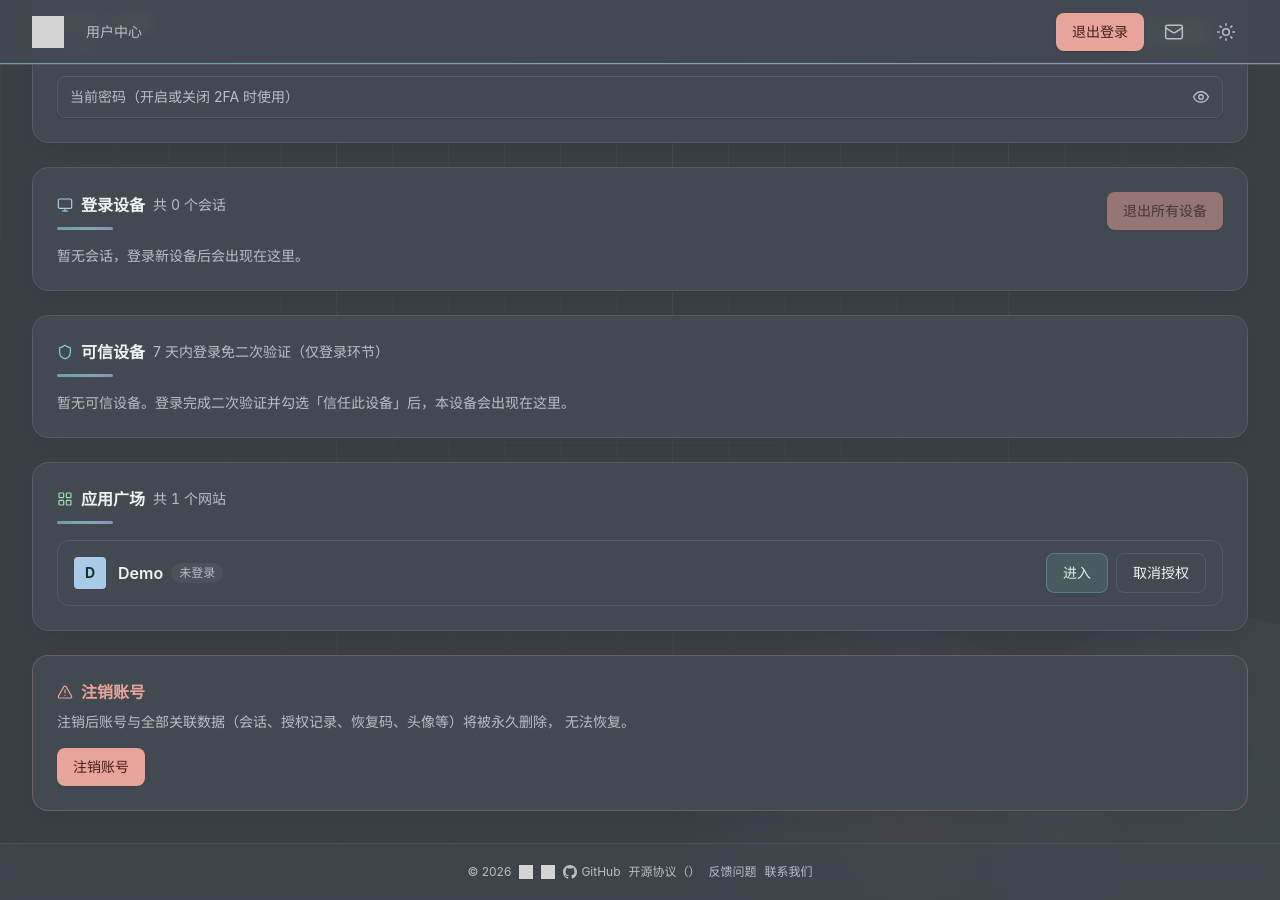
Test: DashboardPage › 配置回程登出但未找到活跃登录关系时给出准确提示
(page scrolled)
Expected: the text "Demo" is shown, [118,561,163,585]
Click the button "取消授权" at (1161,573), box [1116,553,1206,593]
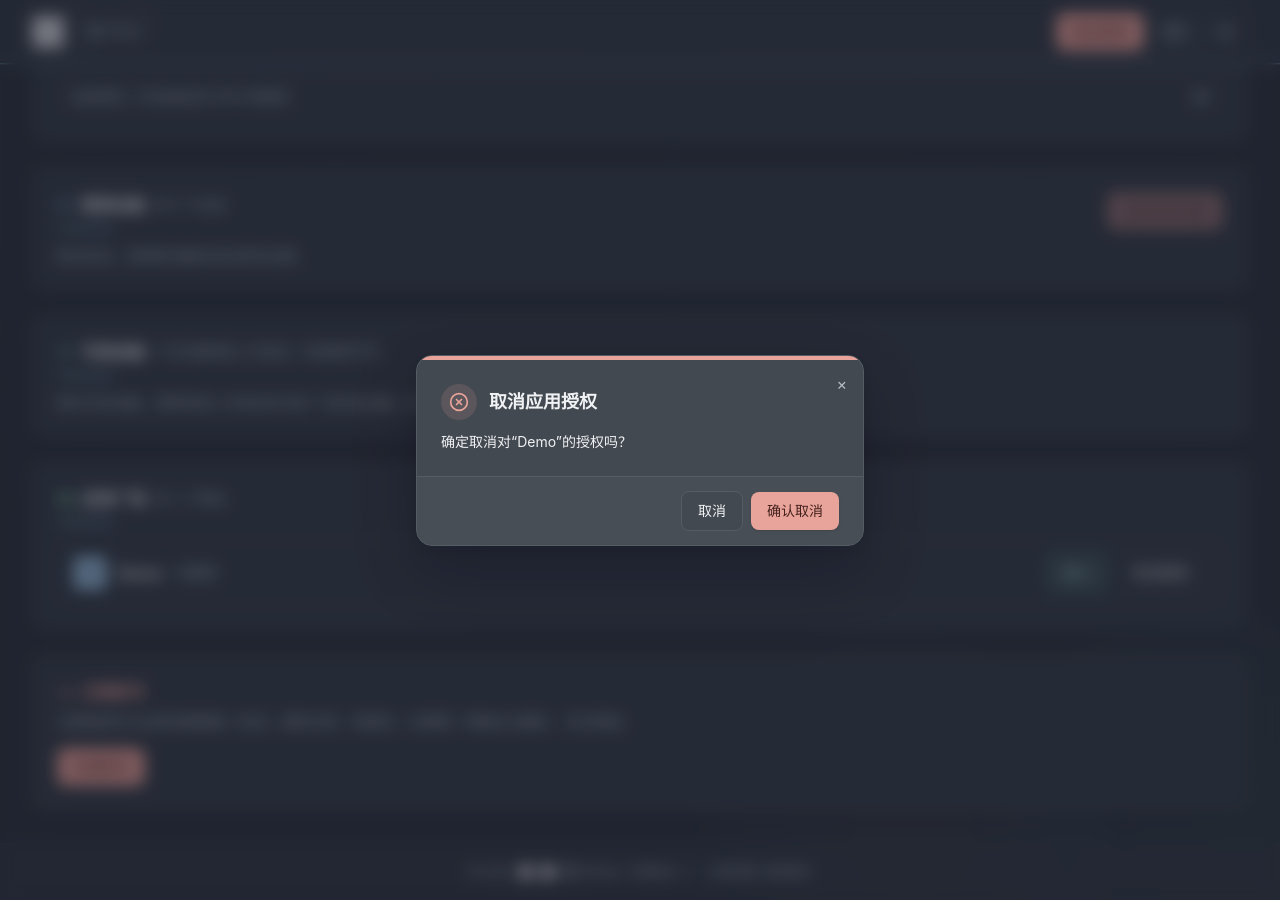
Click the button "确认取消" at (795,510), box [751,492,839,530]
(page scrolled)
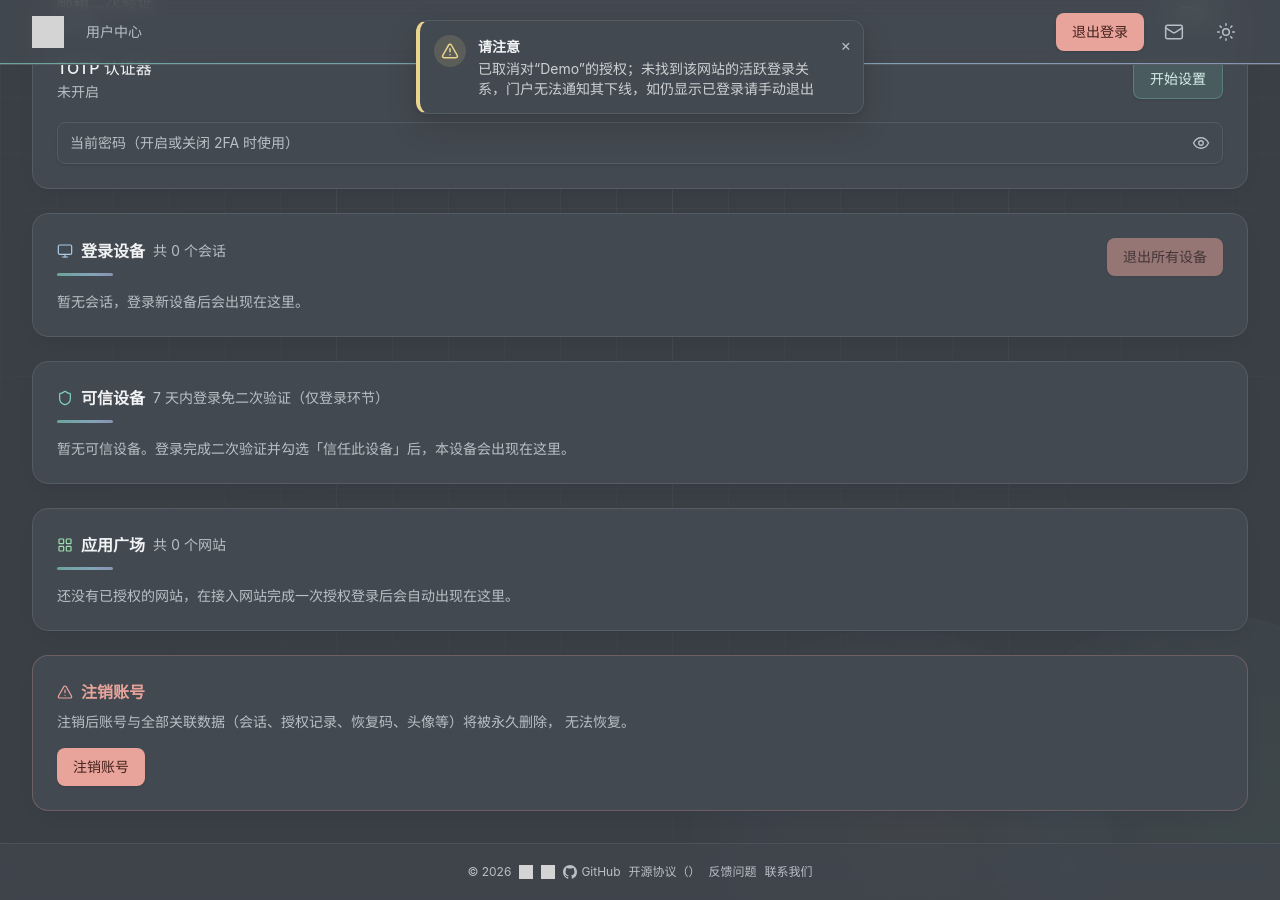
Now the text "已取消对“Demo”的授权；未找到该网站的活跃登录关系，门户无法通知其下线，如仍显示已登录请手动退出" is shown, box [478,59,823,99]
